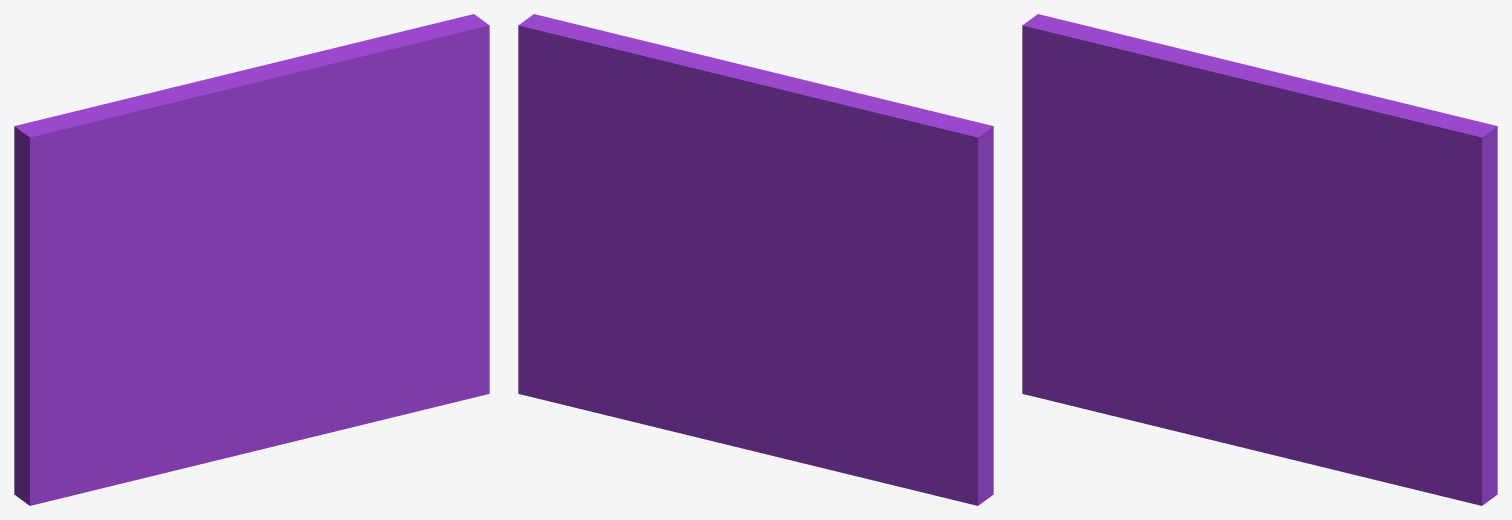
File: Barrier_202_chunks.fbx
3 renders of one model, left to right at view 1: azimuth 30°, elevation 25°; view 2: azimuth 150°, elevation 25°; view 3: azimuth 330°, elevation 25°, orthographic.
Parts seen in each view (by area): view 1: Barrier_202_2, Barrier_202_0, Barrier_202_1, Barrier_202_6, Barrier_202_5, Barrier_202_3, Barrier_202_4; view 2: Barrier_202_2, Barrier_202_0, Barrier_202_1, Barrier_202_6, Barrier_202_3, Barrier_202_4, Barrier_202_5; view 3: Barrier_202_2, Barrier_202_0, Barrier_202_1, Barrier_202_6, Barrier_202_5, Barrier_202_4, Barrier_202_3.
Part boxes in pixels (x1,y1,x2,y2): Barrier_202_2: (258, 14, 489, 413); Barrier_202_0: (14, 156, 263, 505); Barrier_202_1: (157, 291, 408, 474); Barrier_202_6: (203, 29, 409, 250); Barrier_202_5: (28, 80, 253, 185); Barrier_202_3: (14, 72, 234, 174); Barrier_202_4: (99, 184, 227, 236); Barrier_202_2: (518, 14, 730, 403); Barrier_202_0: (770, 145, 993, 505); Barrier_202_1: (558, 258, 893, 485); Barrier_202_6: (582, 36, 807, 270); Barrier_202_3: (758, 80, 992, 192); Barrier_202_4: (766, 182, 961, 271); Barrier_202_5: (770, 71, 993, 148); Barrier_202_2: (1251, 110, 1497, 505); Barrier_202_0: (1022, 44, 1255, 424); Barrier_202_1: (1149, 293, 1401, 486); Barrier_202_6: (1195, 67, 1432, 249); Barrier_202_5: (1022, 24, 1245, 157); Barrier_202_4: (1092, 106, 1219, 221); Barrier_202_3: (1024, 14, 1257, 71).
Size of the model in its own units: 376 by 288 by 22.1.
